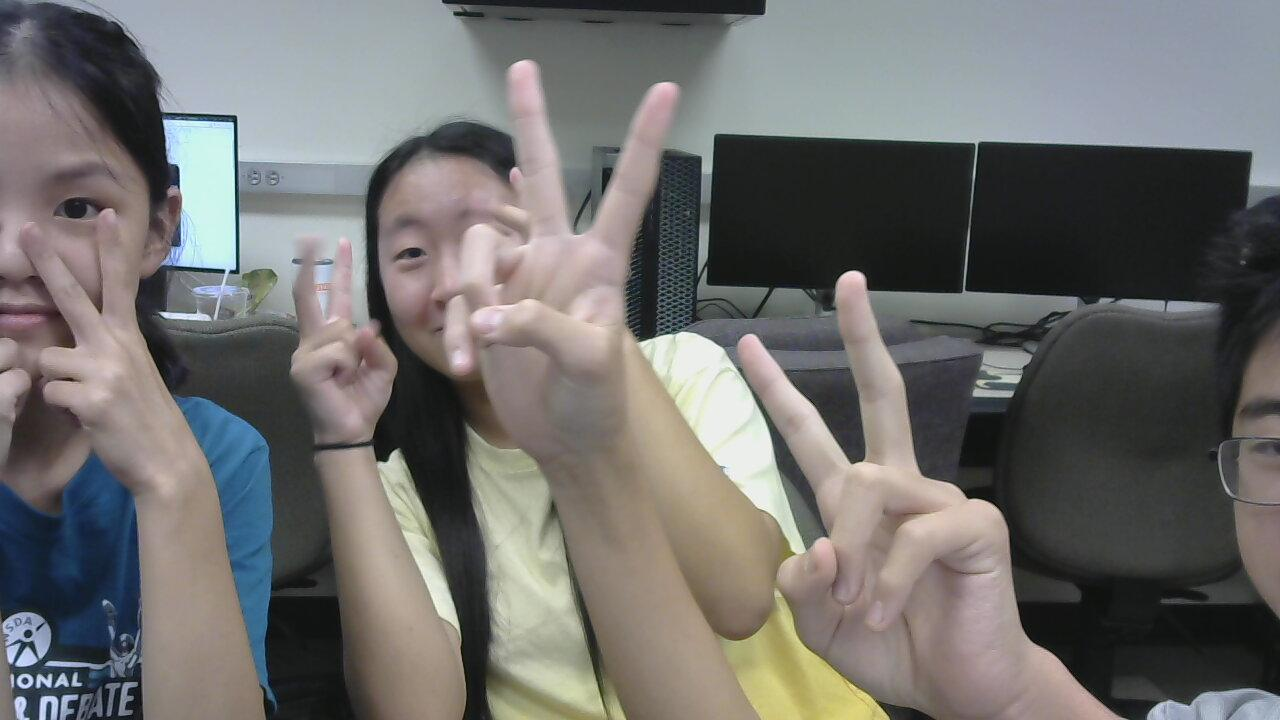peace: (747, 267, 1032, 712), (447, 43, 689, 447), (14, 203, 227, 498), (272, 205, 412, 463)
